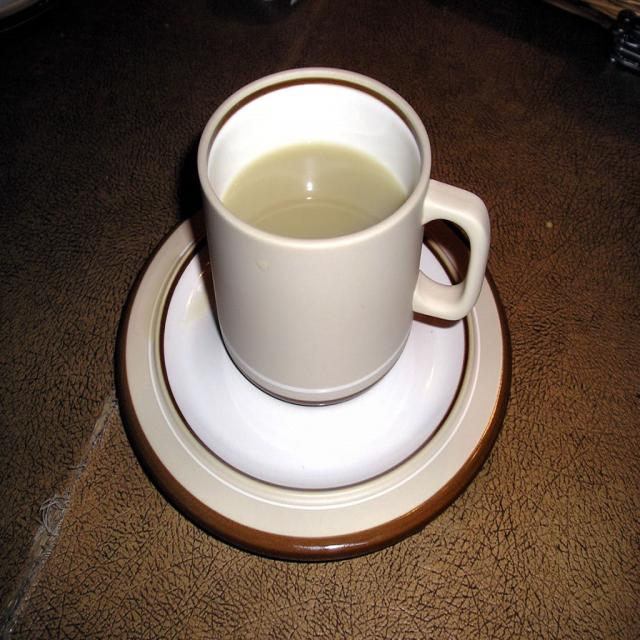Coffee: (221, 145, 411, 243)
Tea: (222, 144, 406, 236)
